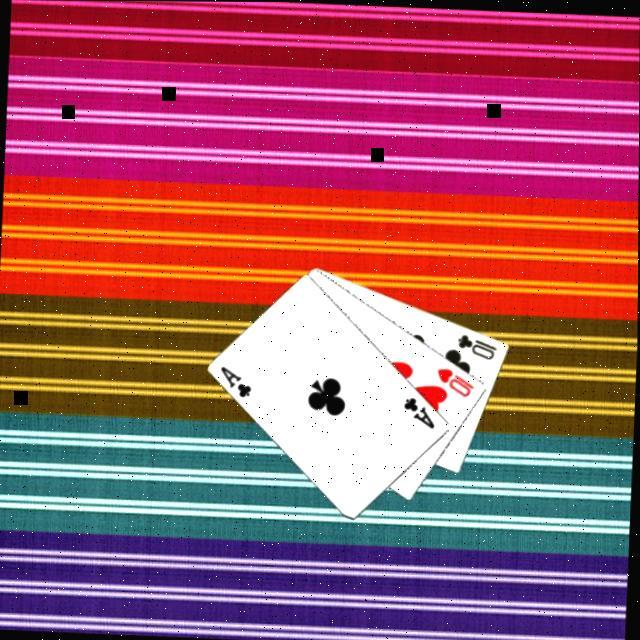10C: (456, 327, 503, 359)
10H: (435, 362, 479, 397)
AC: (402, 391, 441, 428), (218, 360, 257, 397)
